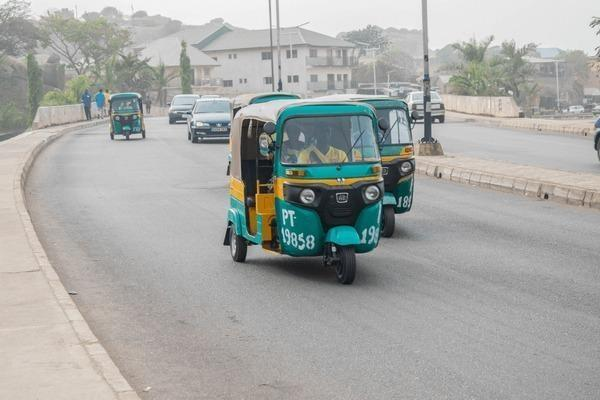keke: (224, 96, 388, 286), (106, 90, 148, 144)
